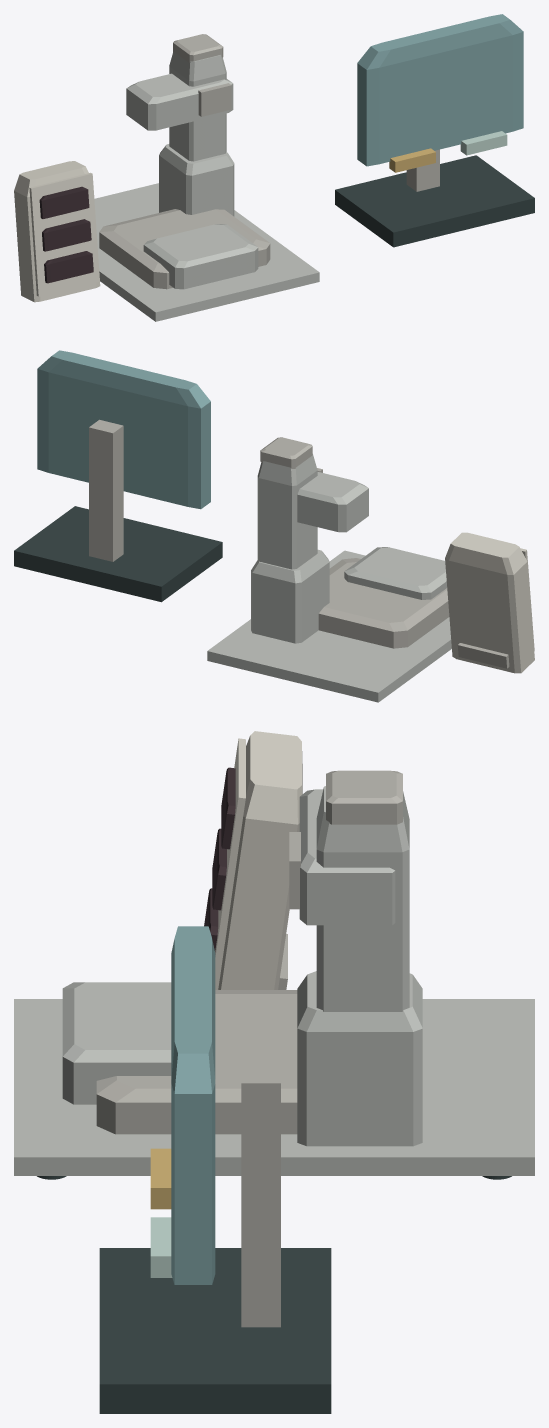
Rendered from kopf940-outline.glb.
The picture shows the model from 3 angles, top to bottom: view 1: azimuth 30°, elevation 25°; view 2: azimuth 150°, elevation 25°; view 3: azimuth 270°, elevation 25°; orthographic projection. The views are drawn at different scales.
Parts seen in each view (by area): view 1: Card_frame, Card_base, Documentary_scale_plate, Fused_front_projection, Sealed_solid_low_photo_outline, Fused_rear_shoulder, Cream_front_face, Fused_upper_cross_silhouette, Fused_upright_outline, Cream_console_shell, Dark_label_free_window_1, Dark_label_free_window_2 (+6 smaller); view 2: Card_frame, Documentary_scale_plate, Card_base, Cream_console_shell, Sealed_solid_low_photo_outline, Fused_rear_shoulder, Fused_upright_outline, Card_spine, Fused_front_projection, Fused_upper_cross_silhouette, Solid_top_round_silhouette, Rear_blank_console_brace; view 3: Documentary_scale_plate, Card_base, Fused_rear_shoulder, Card_frame, Cream_console_shell, Fused_upright_outline, Sealed_solid_low_photo_outline, Fused_front_projection, Card_spine, Fused_upper_cross_silhouette, Solid_top_round_silhouette, Cream_front_face (+5 smaller).
Boxes of the visible parts, x1,y1,x2,y2 form: Card_frame: (357, 14, 523, 166); Card_base: (335, 155, 534, 247); Documentary_scale_plate: (94, 183, 319, 321); Fused_front_projection: (143, 224, 258, 289); Sealed_solid_low_photo_outline: (99, 209, 270, 289); Fused_rear_shoulder: (159, 144, 234, 216); Cream_front_face: (29, 172, 99, 296); Fused_upper_cross_silhouette: (126, 73, 233, 130); Fused_upright_outline: (169, 52, 226, 161); Cream_console_shell: (14, 161, 100, 302); Dark_label_free_window_1: (39, 186, 89, 218); Dark_label_free_window_2: (42, 219, 91, 251); Card_frame: (37, 350, 210, 509); Documentary_scale_plate: (207, 550, 451, 702); Card_base: (14, 506, 222, 602); Cream_console_shell: (445, 532, 534, 673); Sealed_solid_low_photo_outline: (318, 558, 449, 648); Fused_rear_shoulder: (251, 549, 329, 643); Fused_upright_outline: (257, 454, 317, 569); Card_spine: (89, 419, 123, 561); Fused_front_projection: (344, 547, 447, 599); Fused_upper_cross_silhouette: (297, 472, 368, 532); Solid_top_round_silhouette: (260, 437, 312, 468); Rear_blank_console_brace: (457, 643, 509, 668); Documentary_scale_plate: (14, 999, 534, 1175); Card_base: (99, 1248, 331, 1413); Fused_rear_shoulder: (297, 971, 422, 1146); Card_frame: (171, 926, 215, 1284); Cream_console_shell: (218, 731, 302, 989); Fused_upright_outline: (316, 786, 409, 1011); Sealed_solid_low_photo_outline: (96, 990, 297, 1134); Fused_front_projection: (62, 982, 171, 1104); Card_spine: (241, 1061, 280, 1327); Fused_upper_cross_silhouette: (299, 789, 395, 925); Solid_top_round_silhouette: (326, 770, 402, 824); Cream_front_face: (215, 738, 245, 989).
Bounding box in the file's own units: 0.7405 × 0.276 × 0.3531.
